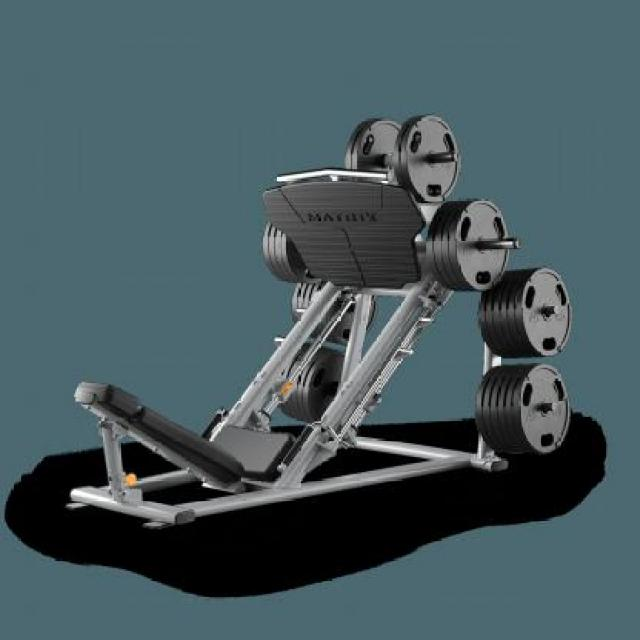leg press: (49, 91, 582, 534)
